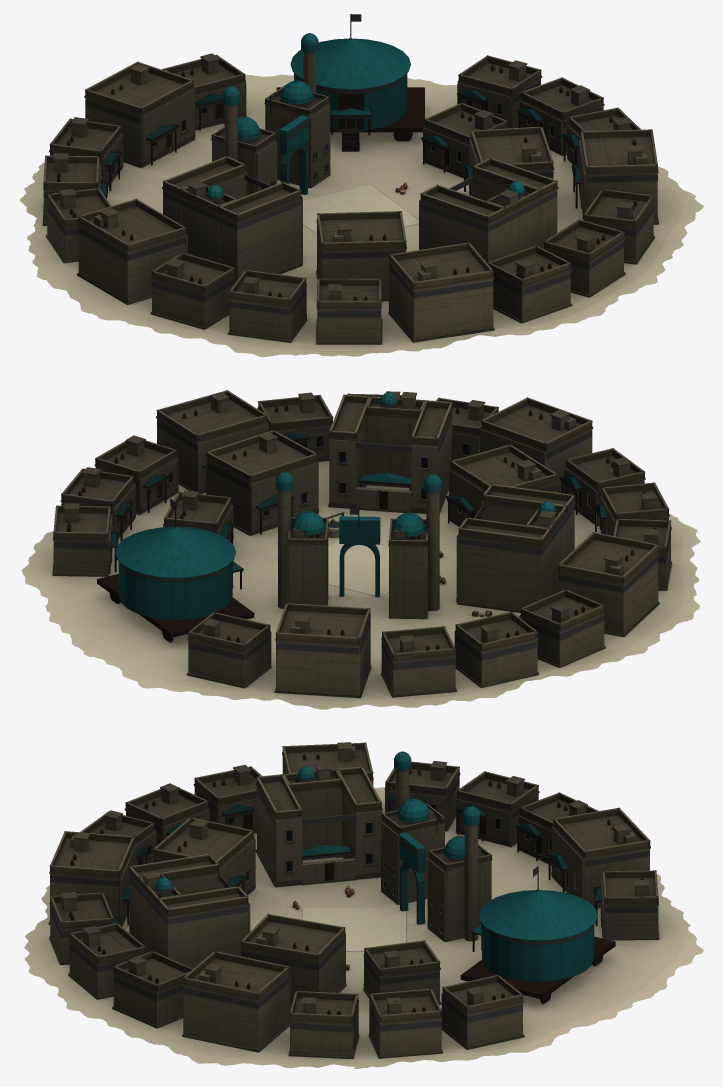
Rendered from kingdoms-town-big-a-steppe-dc652db7.glb.
3 renders of one model, top to bottom at view 1: azimuth 30°, elevation 25°; view 2: azimuth 150°, elevation 25°; view 3: azimuth 270°, elevation 25°, orthographic.
Visible parts, largest first — view 1: LOD0; view 2: LOD0; view 3: LOD0.
Part boxes in pixels (<box>): LOD0: <box>19,14,703,357</box>; LOD0: <box>21,390,700,709</box>; LOD0: <box>24,742,703,1068</box>.
Size of what is drawn, in the model's own units: 7.89 by 1.72 by 8.06.
3 materials, 3 textured.
